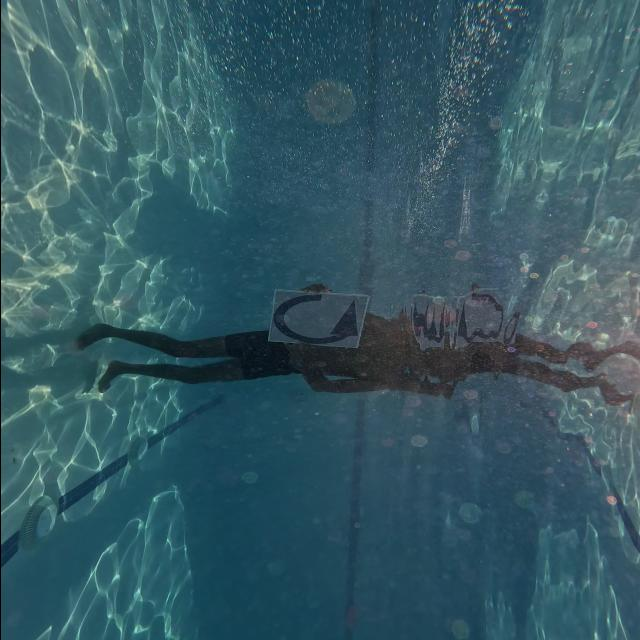blue_side: (263, 291, 373, 348)
